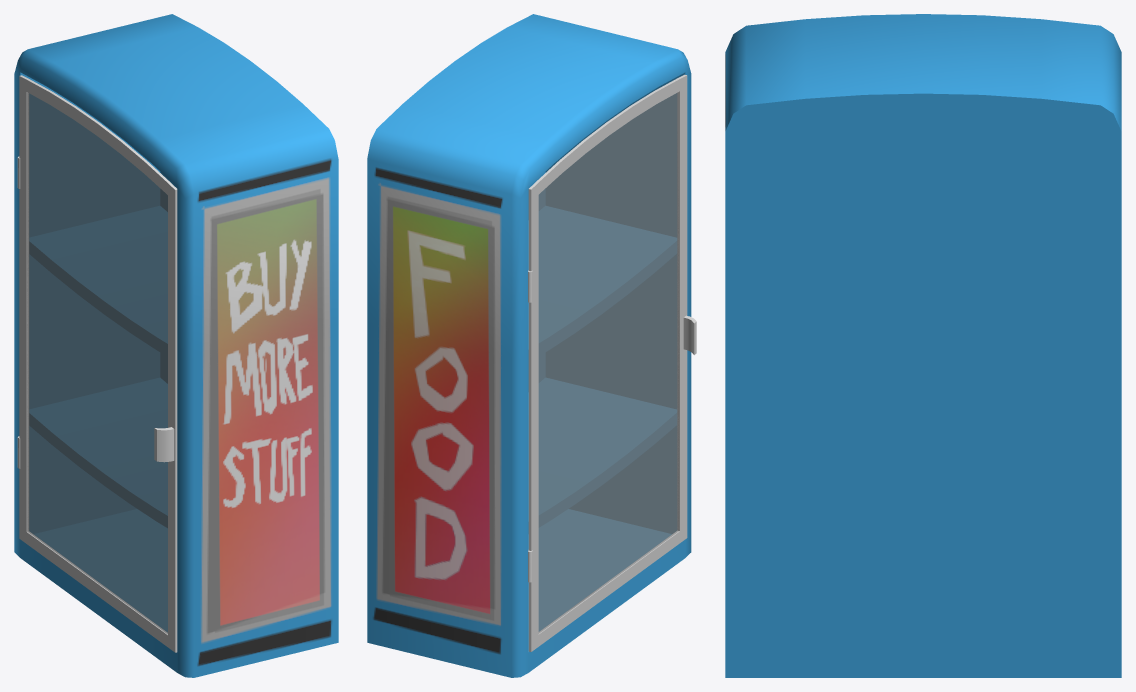
The model's file is frigo.FBX.
3 renders of one model, left to right at view 1: azimuth 30°, elevation 25°; view 2: azimuth 150°, elevation 25°; view 3: azimuth 270°, elevation 25°, orthographic. The views are drawn at different scales.
Visible parts, largest first — view 1: frigo, porteVitre, porteDevnt, handle; view 2: frigo, porteVitre, porteDevnt; view 3: frigo.
Part boxes in pixels (<box>): frigo: <box>14,14,338,677</box>; porteVitre: <box>27,92,167,634</box>; porteDevnt: <box>19,75,177,652</box>; handle: <box>154,427,174,462</box>; frigo: <box>367,14,691,677</box>; porteVitre: <box>538,92,679,633</box>; porteDevnt: <box>528,74,687,651</box>; frigo: <box>725,14,1121,677</box>.
Size of the model in its own units: 110 by 325 by 200.
